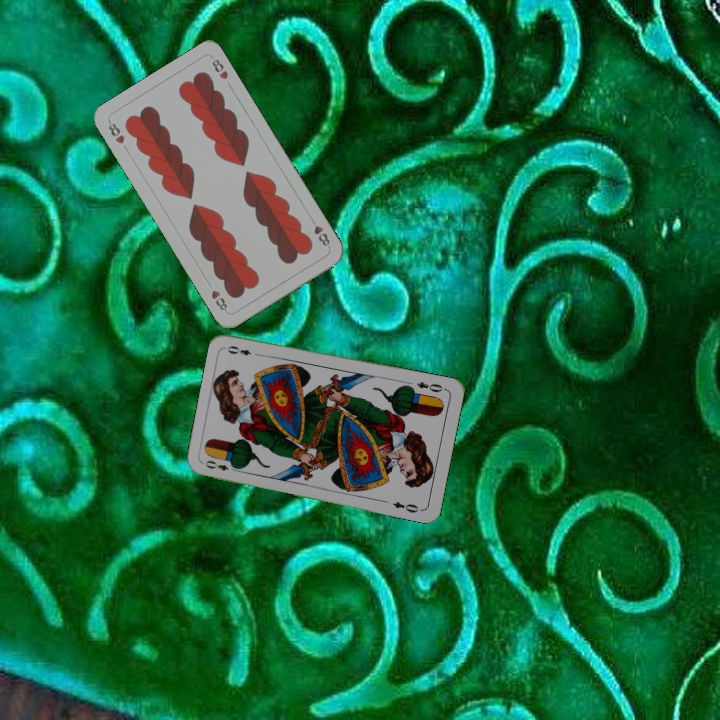EO: (201, 456, 240, 474), (413, 377, 449, 395)
H8: (306, 214, 333, 249), (104, 117, 127, 146)
